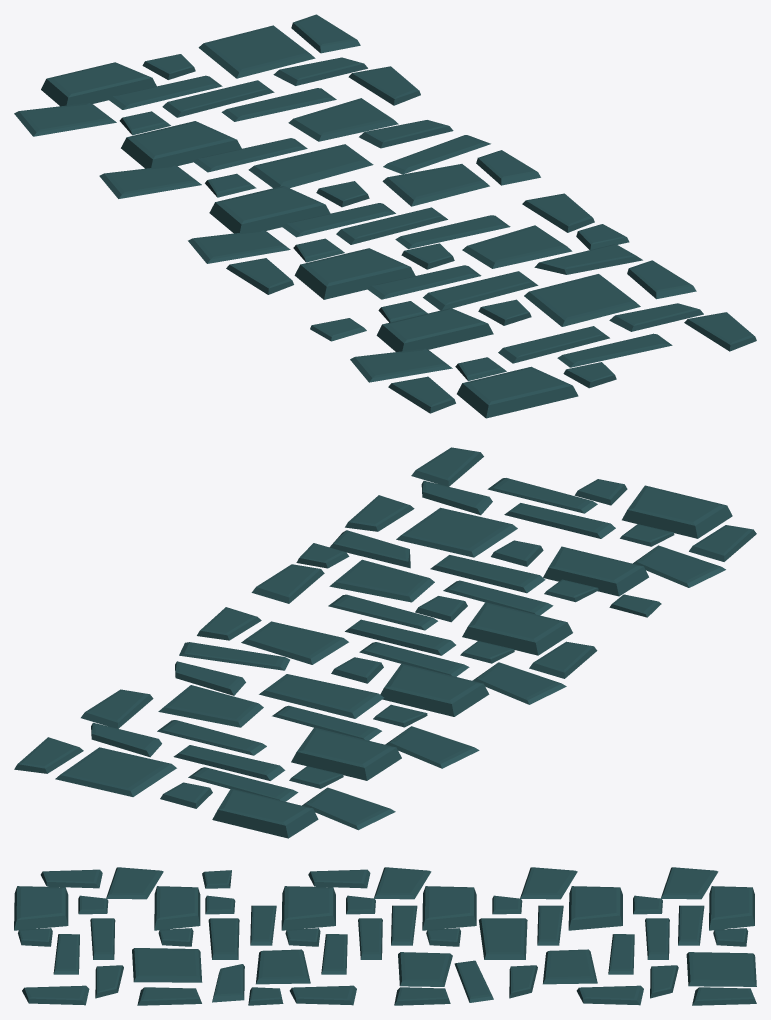
Rendered from caminoJuegos.obj.
3 views of the same model, one above another, from view 1: azimuth 30°, elevation 25°; view 2: azimuth 150°, elevation 25°; view 3: azimuth 270°, elevation 25° (orthographic). The views are drawn at different scales.
Parts seen in each view (by area): view 1: Tiles001; view 2: Tiles001; view 3: Tiles001.
Part boxes in pixels (<box>): Tiles001: <box>14,14,756,418</box>; Tiles001: <box>14,447,756,838</box>; Tiles001: <box>14,867,756,1005</box>.
Size of the model in its own units: 1.54 by 0.0517 by 3.53.
